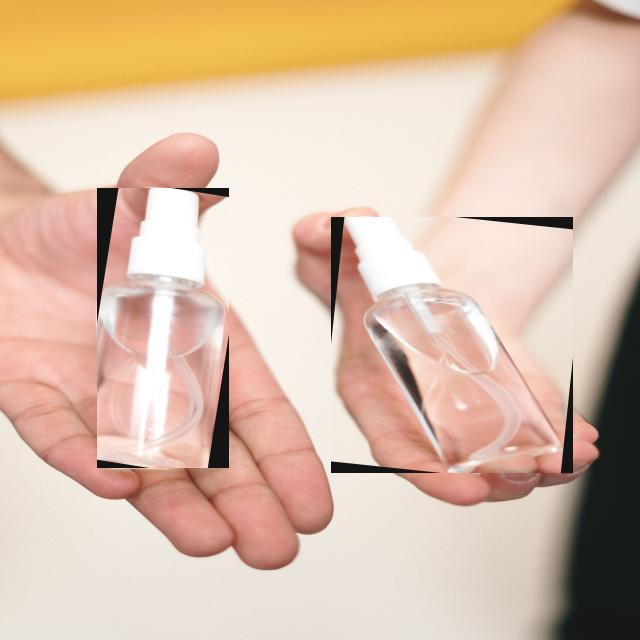Bottle: (332, 217, 573, 473), (97, 188, 229, 468)
